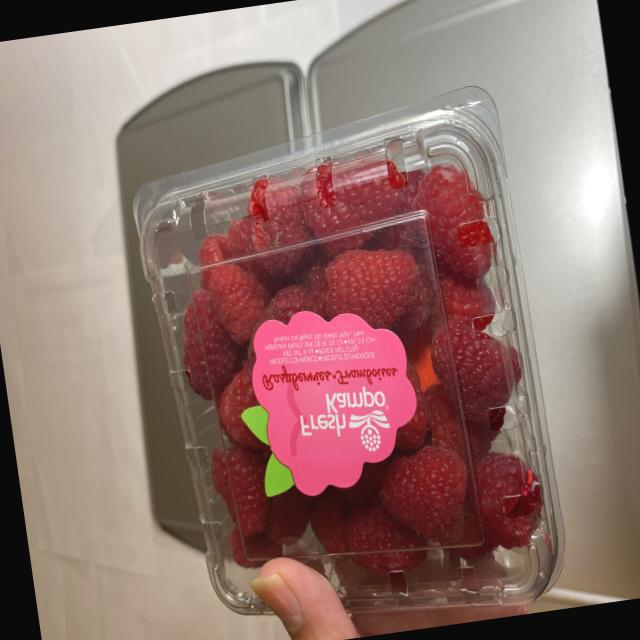raspberries: (147, 134, 558, 602)
